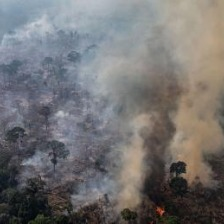incendio: (37, 88, 214, 194), (28, 18, 173, 86), (128, 189, 196, 221)
